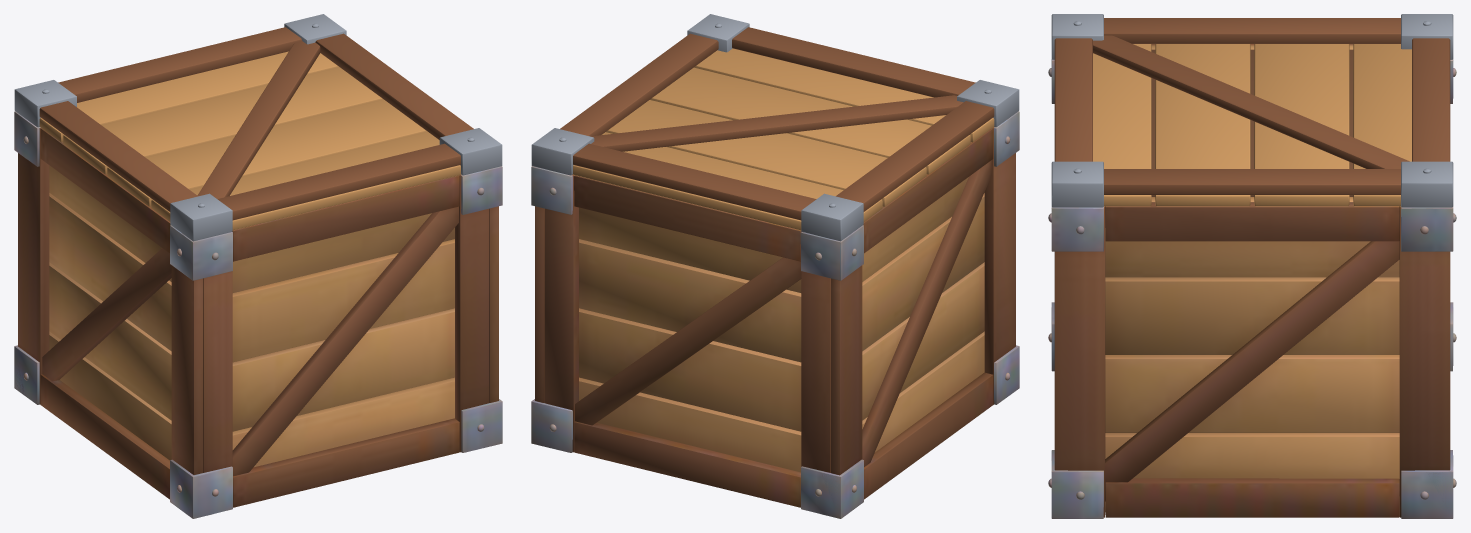
Rendered from wooden-crate.glb.
3 renders of one model, left to right at view 1: azimuth 30°, elevation 25°; view 2: azimuth 150°, elevation 25°; view 3: azimuth 270°, elevation 25°, orthographic. The views are drawn at different scales.
Visible parts, largest first — view 1: wooden-crate_body, wooden-crate_lid; view 2: wooden-crate_body, wooden-crate_lid; view 3: wooden-crate_body, wooden-crate_lid.
Boxes of the visible parts, x1,y1,x2,y2 form: wooden-crate_body: (14,111,502,518); wooden-crate_lid: (14,14,502,241); wooden-crate_body: (531,111,1019,518); wooden-crate_lid: (531,14,1019,241); wooden-crate_body: (1048,44,1456,518); wooden-crate_lid: (1051,14,1453,207).
Size of the model in its own units: 0.66 by 0.6053 by 0.6605.
5 materials, 1 textured.
